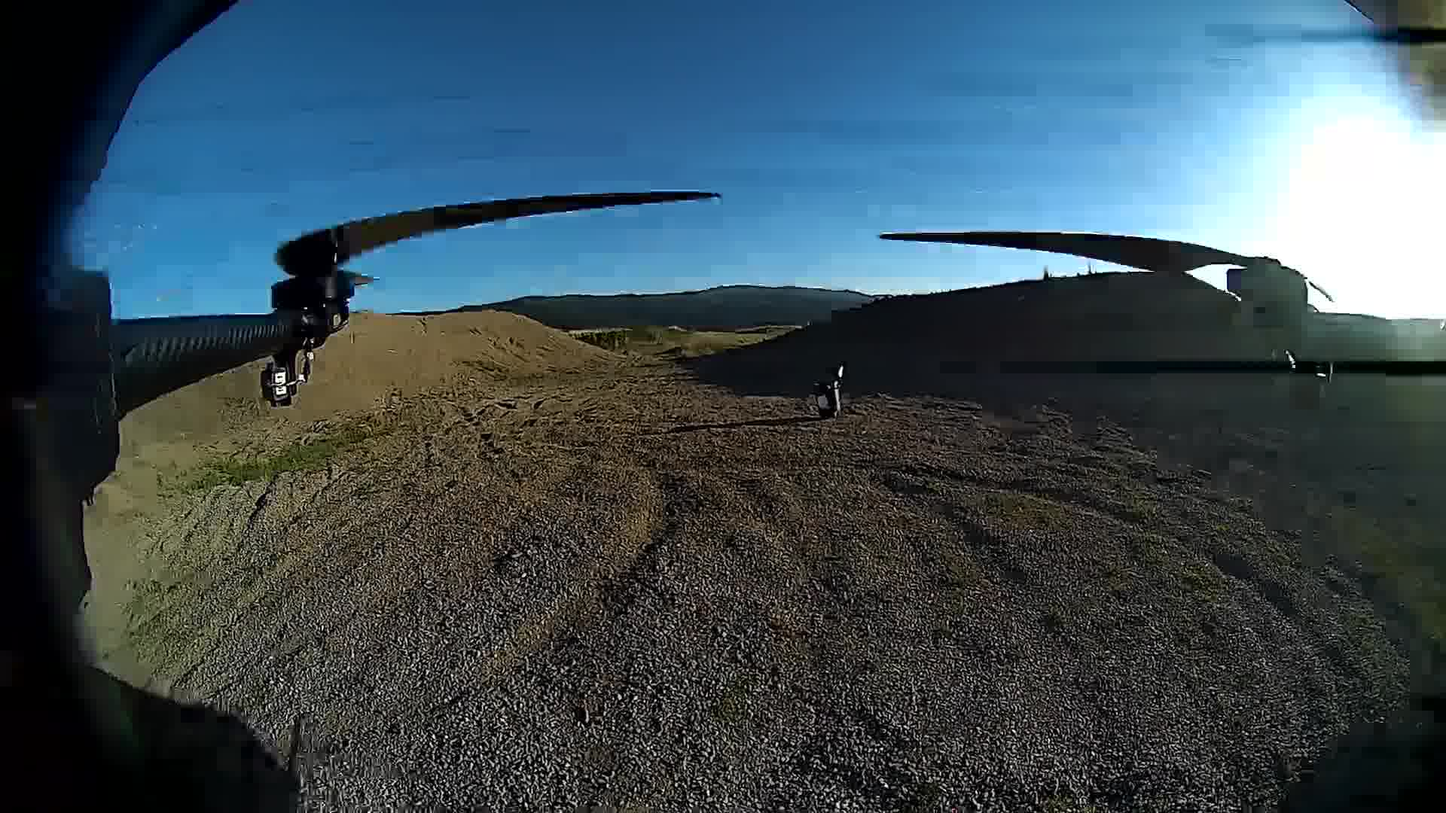Target: (815, 396, 828, 409)
